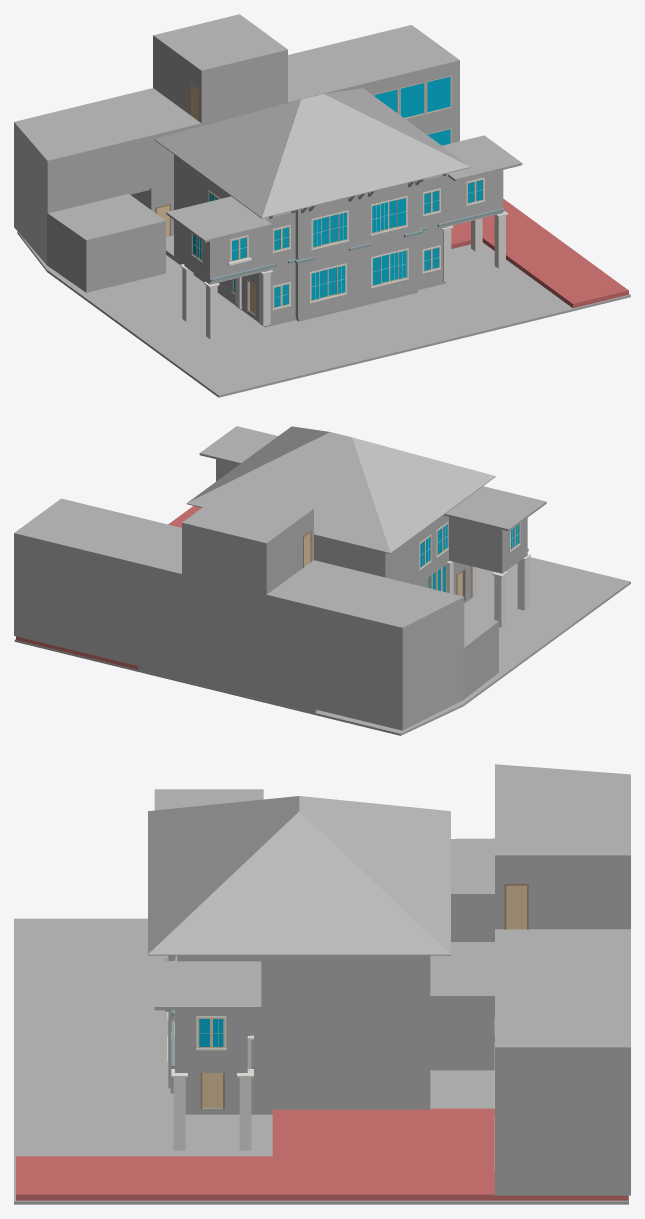
File: VFA_Office_1_simplified.glb
The picture shows the model from 3 angles, top to bottom: view 1: azimuth 30°, elevation 25°; view 2: azimuth 150°, elevation 25°; view 3: azimuth 270°, elevation 25°; orthographic projection. The views are drawn at different scales.
Visible parts, largest first — view 1: Node_Geometry_7863, Node_Geometry_4821, Node_Geometry_2601, Node_Geometry_11720 (×5), Node_Geometry_3443, Node_Geometry_2520, Node_Geometry_9629, Node_Geometry_3894, Node_Geometry_636, Node_Geometry_867, Node_Geometry_3733, Node_Geometry_801 (+19 smaller); view 2: Node_Geometry_3344, Node_Geometry_3059, Node_Geometry_4821, Node_Geometry_11720 (×5), Node_Geometry_7863, Node_Geometry_2555, Node_Geometry_2520, Node_Geometry_3295, Node_Geometry_3019, Node_Geometry_3583, Node_Geometry_2833, Node_Geometry_2578 (+11 smaller); view 3: Node_Geometry_7863, Node_Geometry_11720 (×9), Node_Geometry_9629, Node_Geometry_2578, Node_Geometry_4821, Node_Geometry_377, Node_Geometry_2874, Node_Geometry_2555, Node_Geometry_2601, Node_Geometry_3389, Node_Geometry_3661, Node_Geometry_4790 (+6 smaller).
Part boxes in pixels (box(x1,y1,x2,y2)): Node_Geometry_7863: box(17, 231, 630, 397); Node_Geometry_4821: box(16, 26, 457, 159); Node_Geometry_2601: box(262, 94, 470, 218); Node_Geometry_11720 (×5): box(156, 15, 522, 242); Node_Geometry_3443: box(50, 60, 457, 212); Node_Geometry_2520: box(154, 99, 301, 218); Node_Geometry_9629: box(451, 199, 628, 308); Node_Geometry_3894: box(84, 220, 163, 292); Node_Geometry_636: box(301, 236, 417, 317); Node_Geometry_867: box(301, 184, 417, 264); Node_Geometry_3733: box(203, 49, 285, 104); Node_Geometry_801: box(211, 211, 295, 283); Node_Geometry_3344: box(14, 532, 400, 678); Node_Geometry_3059: box(16, 585, 399, 729); Node_Geometry_4821: box(16, 499, 461, 626); Node_Geometry_11720 (×5): box(184, 426, 546, 577); Node_Geometry_7863: box(14, 557, 630, 735); Node_Geometry_2555: box(186, 432, 390, 553); Node_Geometry_2520: box(352, 437, 495, 553); Node_Geometry_3295: box(399, 596, 464, 679); Node_Geometry_3019: box(399, 649, 463, 730); Node_Geometry_3583: box(182, 521, 264, 576); Node_Geometry_2833: box(387, 515, 448, 584); Node_Geometry_2578: box(187, 426, 329, 502); Node_Geometry_7863: box(14, 918, 628, 1204); Node_Geometry_11720 (×9): box(154, 789, 630, 1195); Node_Geometry_9629: box(16, 1108, 628, 1200); Node_Geometry_2578: box(148, 811, 450, 955); Node_Geometry_4821: box(497, 765, 628, 1046); Node_Geometry_377: box(185, 1035, 425, 1109); Node_Geometry_2874: box(247, 961, 425, 1035); Node_Geometry_2555: box(299, 796, 450, 954); Node_Geometry_2601: box(148, 796, 299, 953); Node_Geometry_3389: box(495, 1045, 626, 1121); Node_Geometry_3661: box(495, 853, 626, 904); Node_Geometry_4790: box(430, 839, 494, 995).
Bounding box in the file's own units: 29.53 × 12.26 × 27.19.
